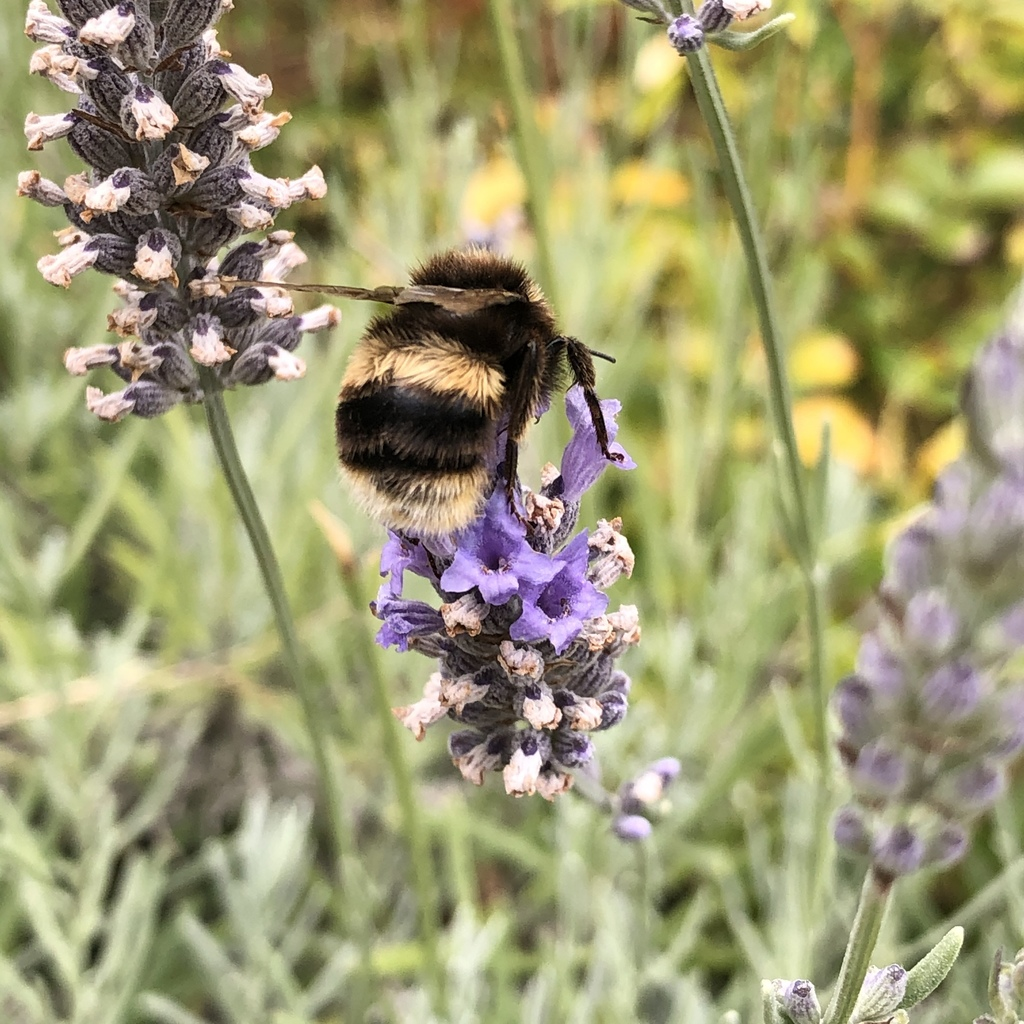bumblebee: (190, 244, 626, 540)
